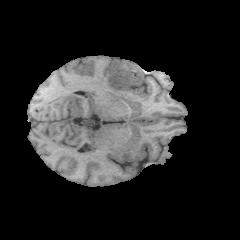glioma: (107, 59, 149, 99)
